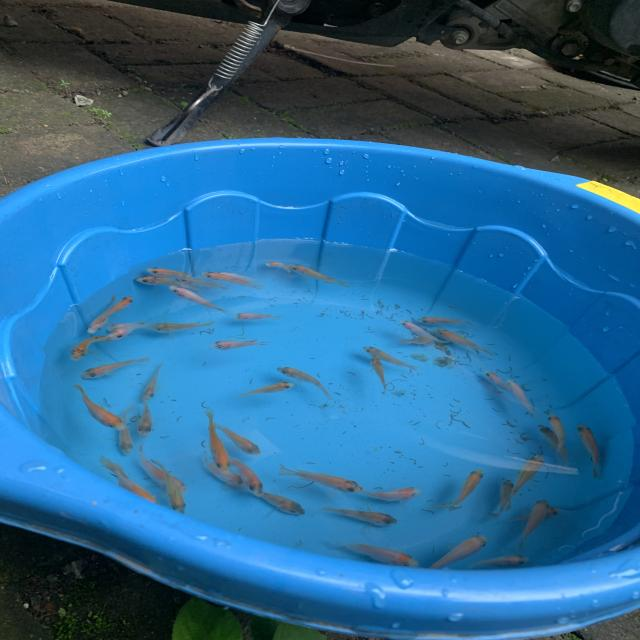nila: (276, 461, 370, 499), (416, 532, 492, 578), (133, 442, 193, 499), (71, 386, 130, 436), (334, 538, 420, 569), (272, 364, 339, 402), (105, 472, 167, 513), (152, 456, 189, 521), (242, 484, 312, 518), (209, 417, 266, 458), (224, 449, 268, 502), (326, 501, 403, 531), (514, 493, 552, 553), (509, 448, 549, 504), (83, 291, 141, 329), (167, 281, 229, 316), (436, 325, 502, 357), (441, 469, 484, 516), (78, 353, 150, 381), (529, 420, 569, 470), (203, 268, 271, 296), (572, 419, 603, 480), (359, 344, 422, 374), (206, 410, 234, 477), (395, 314, 457, 344), (81, 290, 121, 336), (498, 502, 566, 529), (348, 479, 426, 502), (286, 262, 356, 287), (498, 374, 538, 417), (136, 361, 173, 404), (457, 551, 538, 570), (109, 402, 136, 458), (227, 381, 299, 402), (203, 460, 250, 489), (133, 391, 160, 441), (488, 474, 516, 522), (132, 273, 199, 292), (73, 332, 114, 363), (104, 318, 152, 344), (147, 318, 219, 335), (172, 273, 233, 293), (146, 264, 206, 284), (366, 353, 391, 396), (417, 311, 475, 329), (102, 455, 128, 495), (207, 337, 276, 352), (548, 411, 568, 460), (481, 366, 512, 397), (215, 270, 270, 284), (104, 318, 154, 333), (258, 259, 304, 274), (233, 309, 288, 321), (395, 332, 438, 346)
